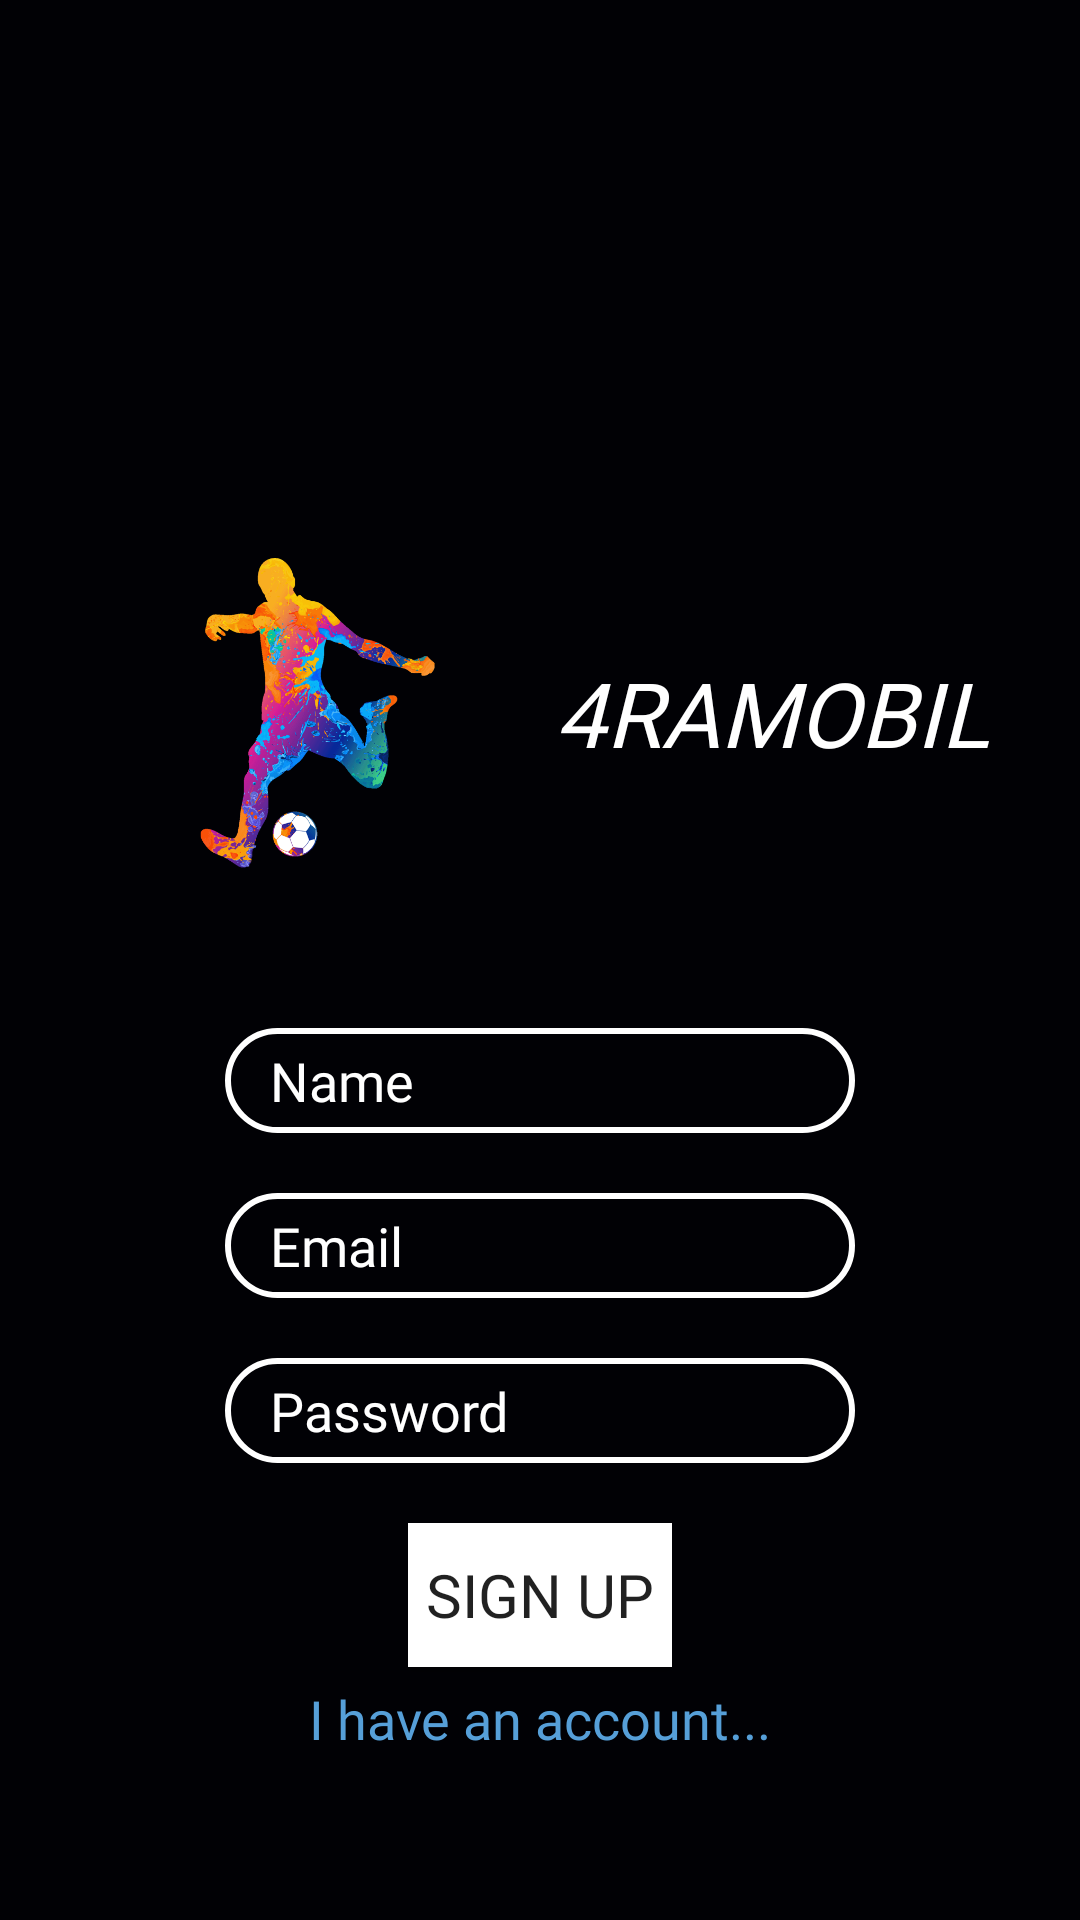

Screen size 1080×1920. Icon name, then its center in pixels as (x=x, y=y):
football player: (x=317, y=713)
